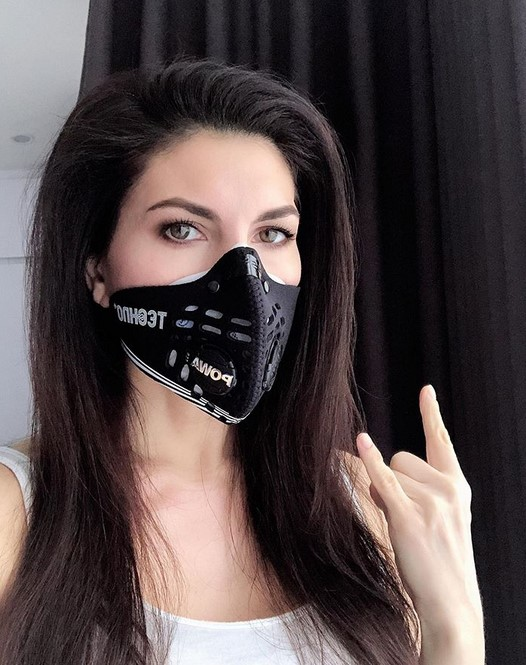face_with_mask: (83, 105, 341, 434)
